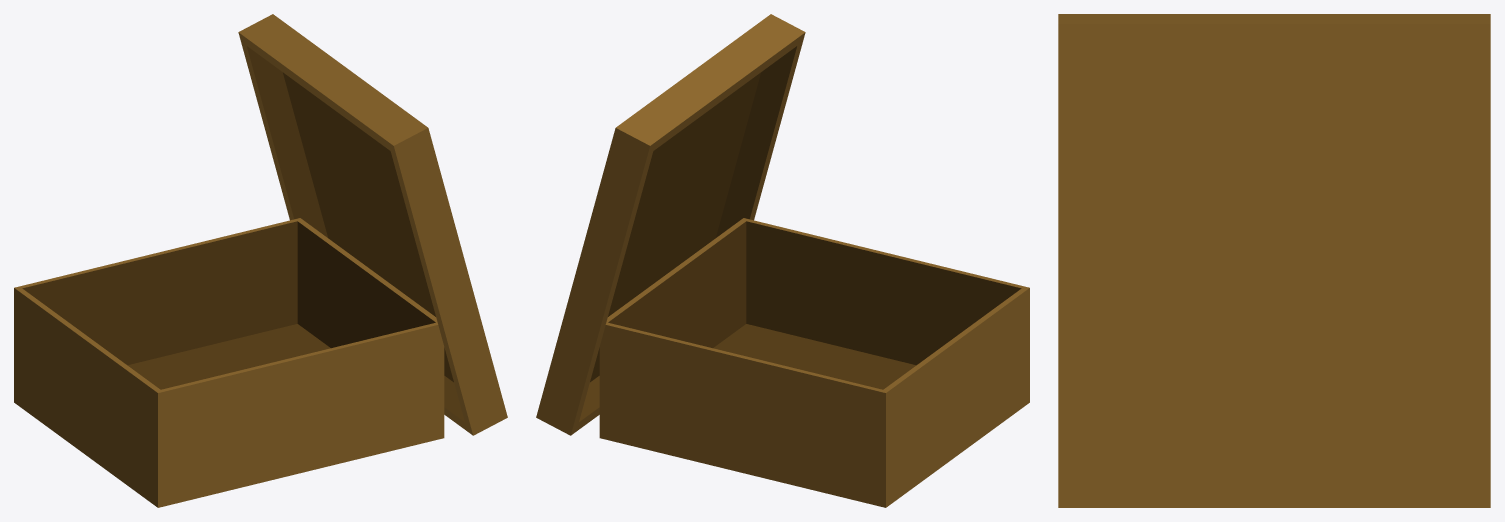
The picture shows the model from 3 angles, left to right: view 1: azimuth 30°, elevation 25°; view 2: azimuth 150°, elevation 25°; view 3: azimuth 270°, elevation 25°; orthographic projection. The views are drawn at different scales.
Visible parts, largest first — view 1: Prop_SmallStorageBox_02; view 2: Prop_SmallStorageBox_02; view 3: Prop_SmallStorageBox_02.
Part boxes in pixels (bbox=[...]): Prop_SmallStorageBox_02: bbox=[14, 14, 507, 507]; Prop_SmallStorageBox_02: bbox=[536, 14, 1029, 507]; Prop_SmallStorageBox_02: bbox=[1058, 14, 1490, 507].
Size of the model in its own units: 38.88 by 34.53 by 30.41.
1 material, 1 textured.
